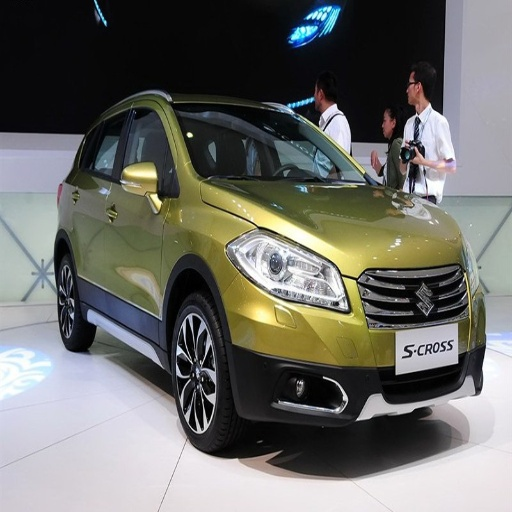front_bumper: (225, 267, 483, 425)
front_right_door: (107, 99, 176, 342)
front_right_light: (228, 226, 354, 313)
